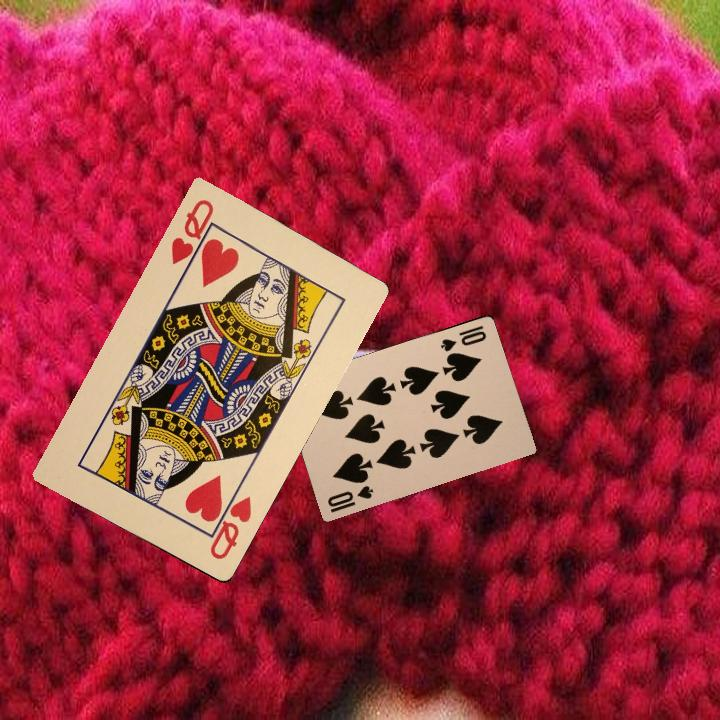10s: (323, 481, 376, 515), (437, 321, 489, 354)
Qh: (166, 195, 218, 275), (205, 485, 254, 563)
